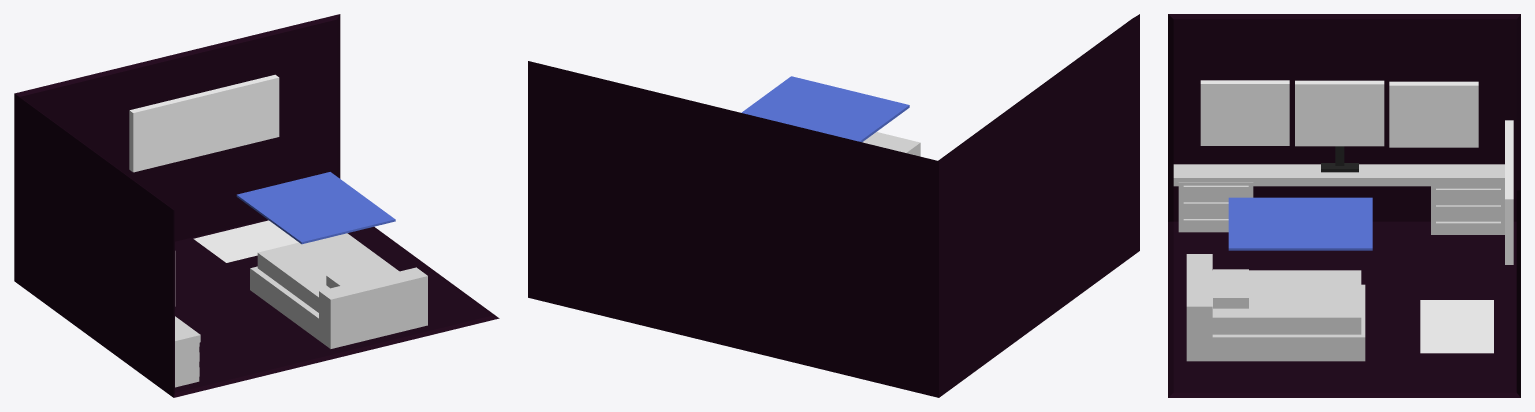
3 renders of one model, left to right at view 1: azimuth 30°, elevation 25°; view 2: azimuth 150°, elevation 25°; view 3: azimuth 270°, elevation 25°, orthographic. The views are drawn at different scales.
Parts seen in each view (by area): view 1: Plane, Cube.009, Cube.008, Cube.004, Cube.010, Plane.001, Cube.012, Cube.011, Cube; view 2: Plane, Cube.004, Cube.008; view 3: Plane, Cube.010, Cube.004, Cube.008, Cube, Cube.003, Cube.005, Cube.002, Plane.001, Cube.001, Cube.012, Cube.011 (+2 smaller).
Boxes of the visible parts, box(x1,y1,x2,y2) form: Plane: box(14, 14, 499, 397); Cube.009: box(129, 74, 279, 172); Cube.008: box(250, 266, 427, 348); Cube.004: box(236, 172, 395, 244); Cube.010: box(257, 233, 399, 312); Plane.001: box(193, 220, 298, 262); Cube.012: box(175, 342, 199, 387); Cube.011: box(326, 263, 392, 288); Cube: box(175, 316, 200, 348); Plane: box(528, 14, 1139, 397); Cube.004: box(741, 76, 909, 142); Cube.008: box(862, 132, 920, 156); Plane: box(1168, 14, 1520, 397); Cube.010: box(1212, 270, 1361, 334); Cube.004: box(1228, 197, 1372, 250); Cube.008: box(1186, 254, 1365, 361); Cube: box(1173, 164, 1504, 186); Cube.003: box(1389, 81, 1478, 147); Cube.005: box(1295, 80, 1384, 146); Cube.002: box(1200, 80, 1289, 145); Plane.001: box(1420, 300, 1493, 353); Cube.001: box(1431, 186, 1504, 234); Cube.012: box(1178, 182, 1253, 232); Cube.011: box(1213, 269, 1248, 308).
Size of what is drawn, in the model's own units: 9.34 by 5.14 by 7.91.
